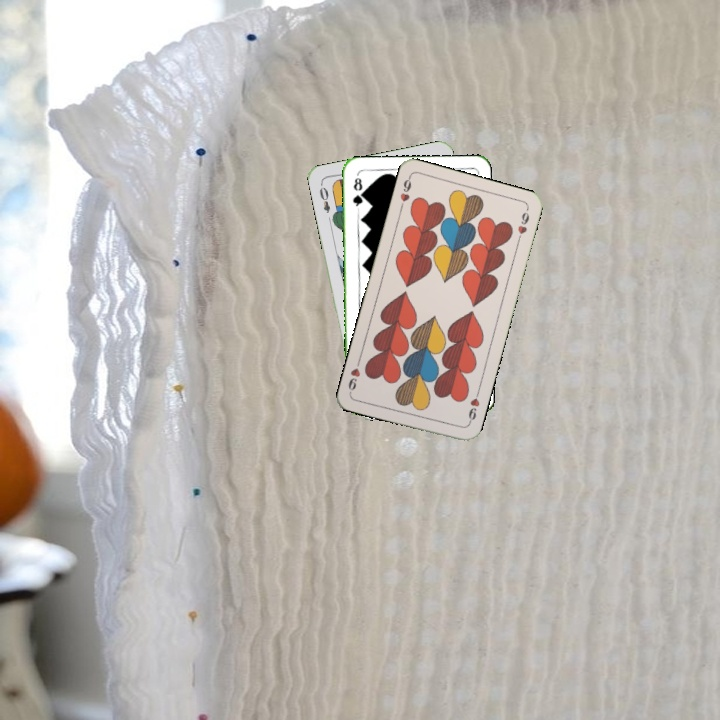EO: (315, 180, 333, 215)
G8: (349, 174, 365, 212)
H9: (396, 173, 414, 213), (464, 387, 482, 427)
